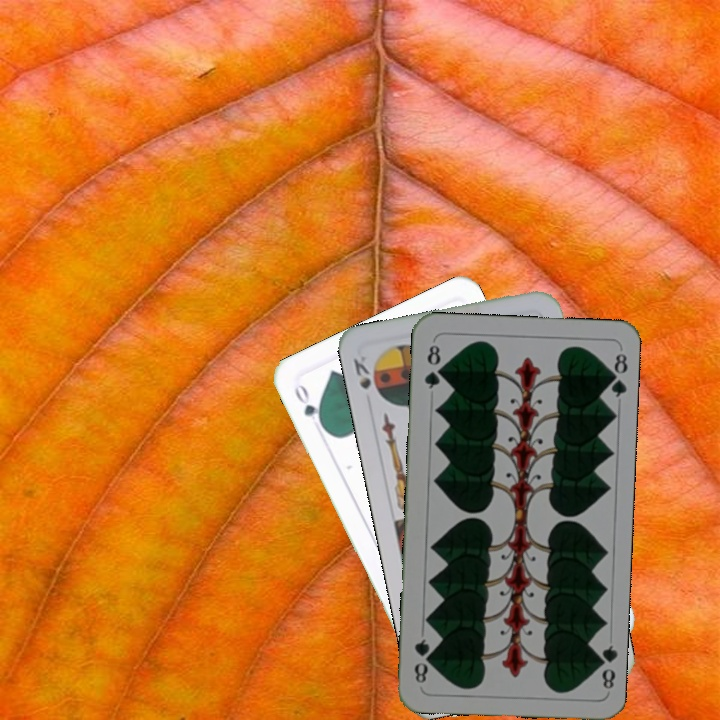G8: (591, 641, 619, 691), (420, 340, 445, 392)
GO: (290, 379, 328, 432)
SK: (349, 352, 374, 392)
